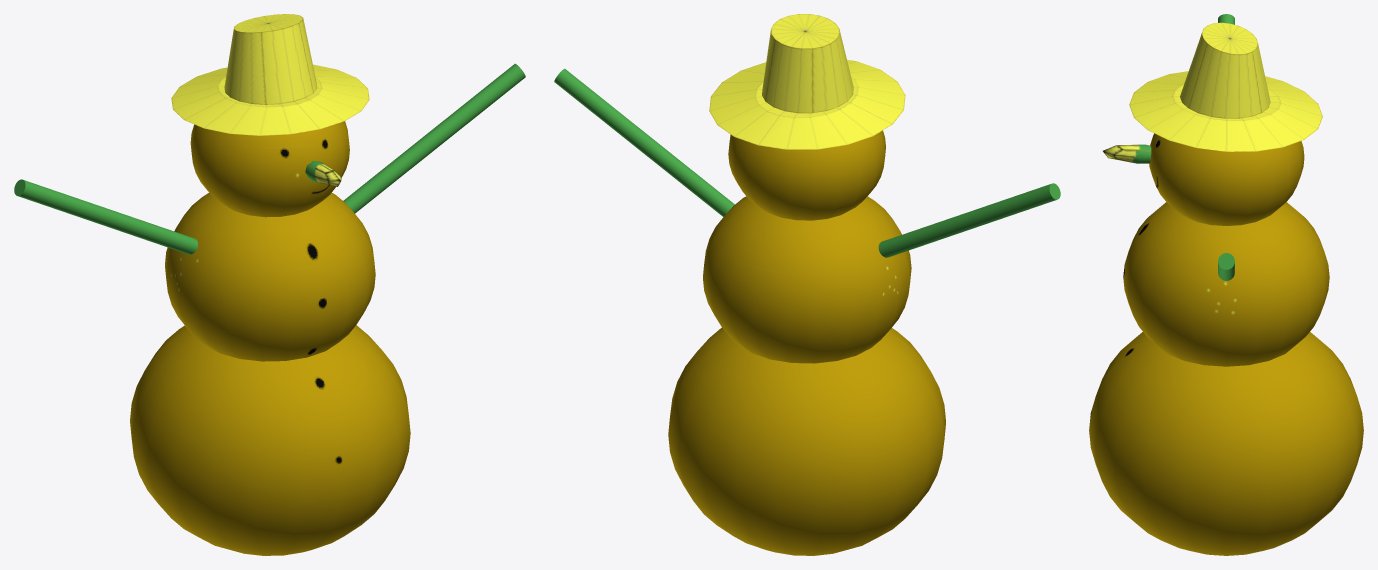
The model's file is rural_earl.fbx.
3 renders of one model, left to right at view 1: azimuth 30°, elevation 25°; view 2: azimuth 150°, elevation 25°; view 3: azimuth 270°, elevation 25°, orthographic. The views are drawn at different scales.
Parts seen in each view (by area): view 1: pasted__pCube1; view 2: pasted__pCube1; view 3: pasted__pCube1.
Boxes of the visible parts, left/top/right/bottom form: pasted__pCube1: left=14, top=14, right=525, bottom=555; pasted__pCube1: left=554, top=14, right=1060, bottom=555; pasted__pCube1: left=1089, top=14, right=1363, bottom=555.
Size of the model in its own units: 4.15 by 4.08 by 2.
Materials: 1 (1 with a texture image).
